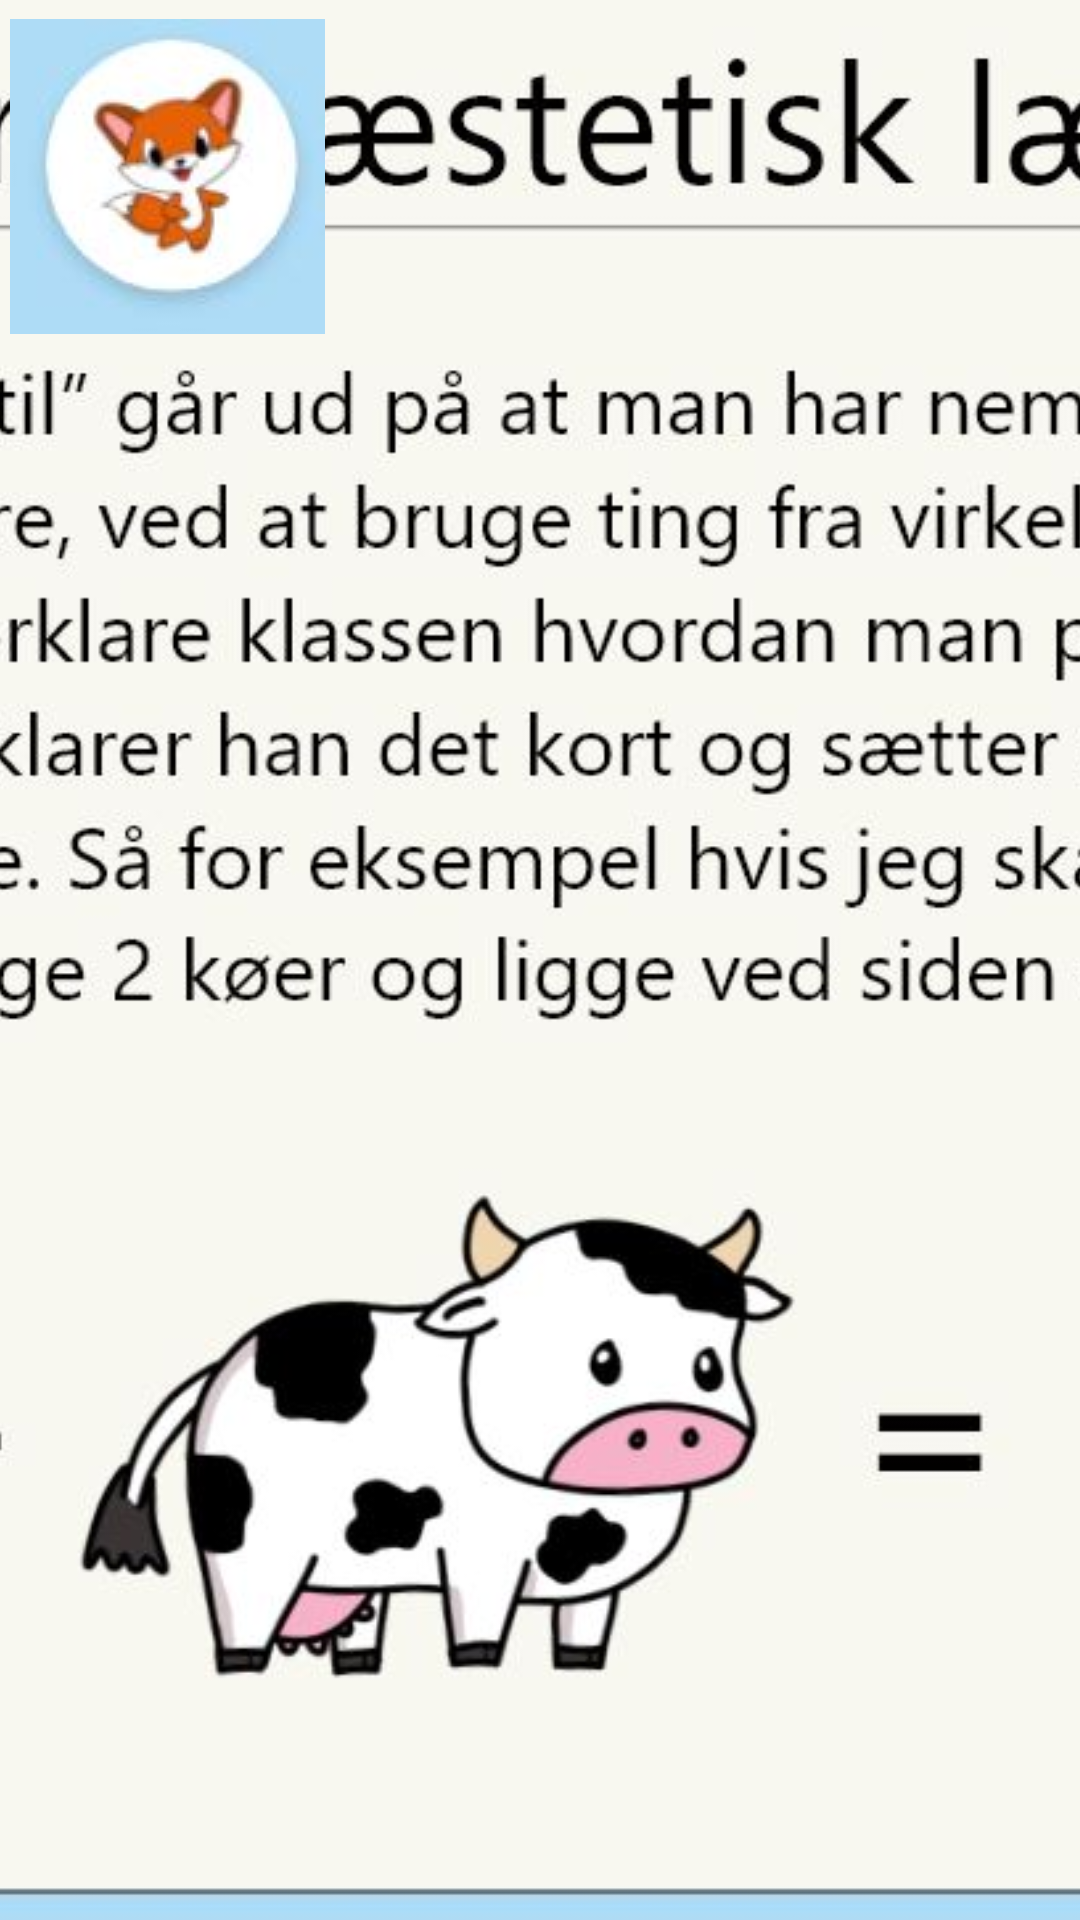

Where icons sit on this 1080px×1920px app screen, as BBox(x1, y1, x2, y2):
dinprofil: BBox(10, 19, 325, 334)
